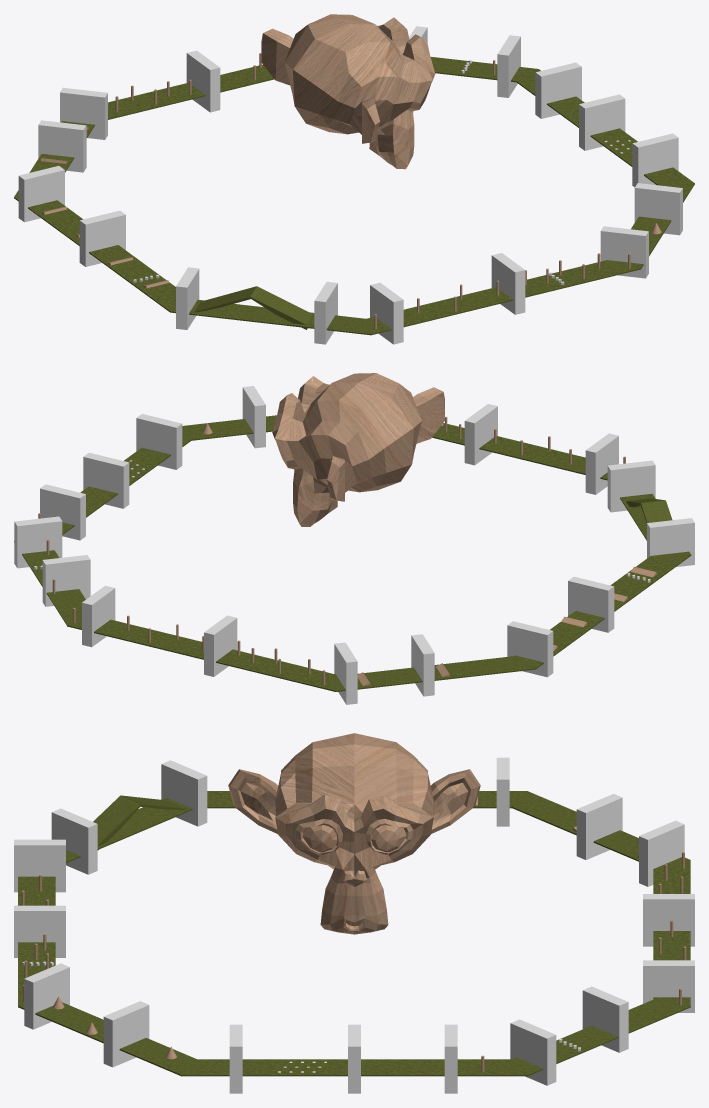
The model's file is Spungilious Speedway.glb.
3 renders of one model, top to bottom at view 1: azimuth 30°, elevation 25°; view 2: azimuth 150°, elevation 25°; view 3: azimuth 270°, elevation 25°, orthographic. The views are drawn at different scales.
Visible parts, largest first — view 1: Misc.0, Track.1, Dropoff.3, Dropoff.7, Dropoff.0, Checkpoint.3, Checkpoint.0, Checkpoint.7, Dropoff.4, Checkpoint.4, Dropoff.8, Dropoff.2 (+7 smaller); view 2: Misc.0, Track.1, Dropoff.5, Checkpoint.0, Checkpoint.4, Dropoff.8, Dropoff.4, Checkpoint.1, Dropoff.1, Dropoff.0, Checkpoint.5, Dropoff.6 (+7 smaller); view 3: Misc.0, Track.1, Checkpoint.6, Dropoff.3, Dropoff.7, Dropoff.6, Checkpoint.5, Checkpoint.1, Dropoff.2, Dropoff.1, Checkpoint.2, Dropoff.5 (+7 smaller).
Boxes of the visible parts, x1,y1,x2,y2 form: Misc.0: (261, 14, 435, 169); Track.1: (14, 57, 694, 335); Dropoff.3: (38, 120, 86, 172); Dropoff.7: (634, 183, 682, 235); Dropoff.0: (535, 62, 581, 118); Checkpoint.3: (60, 87, 107, 139); Checkpoint.0: (579, 94, 625, 150); Checkpoint.7: (600, 226, 648, 278); Dropoff.4: (79, 210, 125, 266); Checkpoint.4: (18, 166, 64, 222); Dropoff.8: (632, 133, 678, 187); Dropoff.2: (186, 50, 220, 112); Misc.0: (272, 373, 444, 526); Track.1: (14, 415, 691, 691); Dropoff.5: (607, 460, 655, 512); Checkpoint.0: (83, 452, 129, 508); Checkpoint.4: (507, 621, 553, 677); Dropoff.8: (136, 414, 182, 469); Dropoff.4: (568, 576, 614, 632); Checkpoint.1: (14, 516, 62, 568); Dropoff.1: (42, 555, 90, 606); Dropoff.0: (40, 484, 85, 540); Checkpoint.5: (647, 518, 694, 566); Dropoff.6: (464, 404, 497, 465); Misc.0: (228, 733, 480, 934); Track.1: (18, 791, 690, 1076); Checkpoint.6: (14, 839, 65, 892); Dropoff.3: (576, 794, 622, 859); Dropoff.7: (103, 1001, 149, 1067); Dropoff.6: (14, 905, 65, 957); Checkpoint.5: (161, 760, 207, 826); Checkpoint.1: (510, 1019, 556, 1085); Dropoff.2: (643, 894, 694, 946); Dropoff.1: (582, 986, 628, 1052); Checkpoint.2: (643, 960, 694, 1012); Dropoff.5: (51, 808, 97, 874).
Bounding box in the file's own units: 474 × 154 × 472.
Materials: 4 (4 with a texture image).
